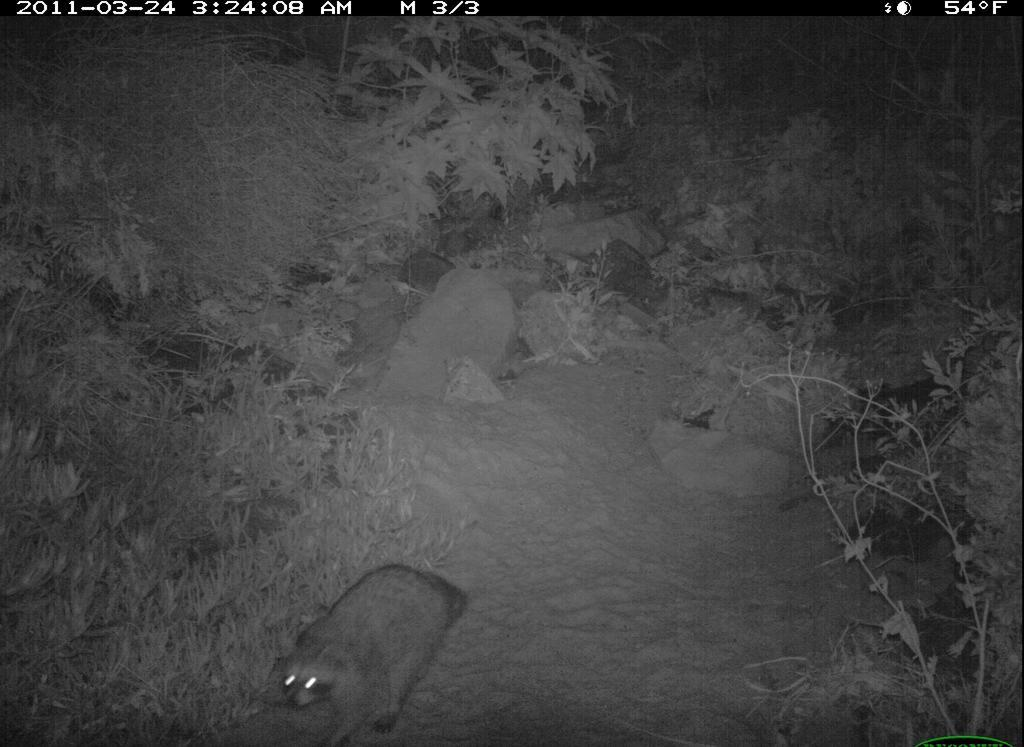raccoon: (259, 557, 491, 744)
